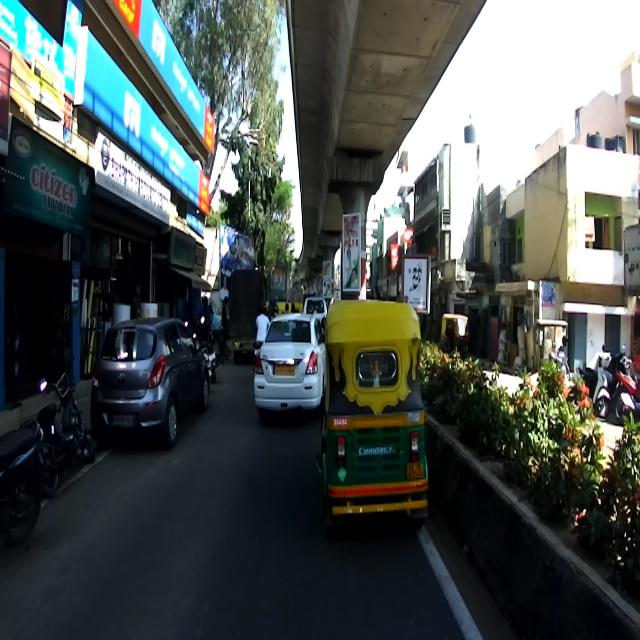Car_Hyundai: (90, 316, 210, 450)
Car_Maruti-Suzuki: (253, 313, 328, 422)
Car_Toyota: (301, 296, 330, 322)
autorickshaw: (316, 300, 428, 540), (437, 312, 473, 358)
motorcycle_TVS: (34, 364, 95, 506)
motorcycle_bajaj: (0, 415, 52, 547), (614, 370, 640, 423)
scooter: (575, 344, 609, 420)
truck: (223, 262, 270, 369)
